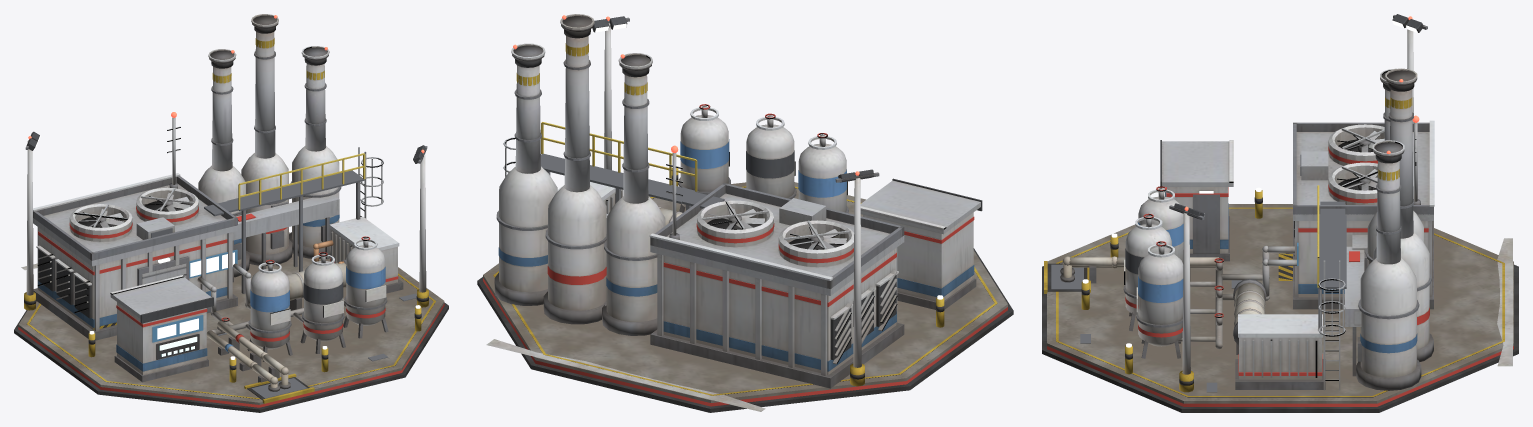
File: life_support_plant.glb
3 renders of one model, left to right at view 1: azimuth 30°, elevation 25°; view 2: azimuth 150°, elevation 25°; view 3: azimuth 270°, elevation 25°, orthographic. The views are drawn at different scales.
Parts seen in each view (by area): view 1: Build0Body, Build2Body, Build1Body, Build8Body, StacksBody, Build3Body, Build9Body, Tank1Body, Tank2Body, Tank0Body, Build5Body, Build7Body (+3 smaller); view 2: Build0Body, Build1Body, Build3Body, Build2Body, StacksBody, Build8Body, Tank2Body, MastsBody, Tank1Body, Build9Body, Tank0Body, Build5Body (+2 smaller); view 3: Build0Body, Build3Body, Build2Body, Build5Body, Build8Body, StacksBody, Tank2Body, Build9Body, Build1Body, Build7Body, MastsBody, Tank1Body (+3 smaller).
Part boxes in pixels (bbox=[...]): Build0Body: bbox=[14, 232, 448, 412]; Build2Body: bbox=[33, 117, 237, 266]; Build1Body: bbox=[33, 227, 237, 340]; Build8Body: bbox=[110, 275, 213, 382]; StacksBody: bbox=[208, 14, 329, 171]; Build3Body: bbox=[198, 146, 341, 277]; Build9Body: bbox=[204, 147, 383, 293]; Tank1Body: bbox=[293, 252, 345, 353]; Tank2Body: bbox=[343, 236, 388, 338]; Tank0Body: bbox=[245, 259, 292, 361]; Build5Body: bbox=[286, 216, 403, 310]; Build7Body: bbox=[197, 263, 344, 391]; Build0Body: bbox=[477, 182, 1013, 412]; Build1Body: bbox=[650, 247, 904, 388]; Build3Body: bbox=[494, 166, 665, 335]; Build2Body: bbox=[649, 153, 904, 295]; StacksBody: bbox=[511, 14, 652, 203]; Build8Body: bbox=[860, 178, 982, 309]; Tank2Body: bbox=[678, 104, 730, 212]; MastsBody: bbox=[592, 16, 879, 386]; Tank1Body: bbox=[745, 113, 796, 199]; Build9Body: bbox=[503, 122, 724, 210]; Tank0Body: bbox=[798, 133, 848, 213]; Build5Body: bbox=[557, 182, 682, 225]; Build0Body: bbox=[1042, 204, 1518, 412]; Build3Body: bbox=[1356, 211, 1433, 390]; Build2Body: bbox=[1293, 120, 1434, 220]; Build5Body: bbox=[1233, 279, 1325, 389]; Build8Body: bbox=[1160, 140, 1233, 261]; StacksBody: bbox=[1372, 68, 1417, 264]; Tank2Body: bbox=[1136, 241, 1215, 358]; Build9Body: bbox=[1317, 185, 1346, 390]; Build1Body: bbox=[1292, 189, 1433, 309]; Build7Body: bbox=[1060, 245, 1296, 348]; MastsBody: bbox=[1169, 14, 1427, 392]; Tank1Body: bbox=[1123, 213, 1215, 331].
Size of the model in its own units: 13.21 by 9.11 by 13.21.
23 materials, 16 textured.
